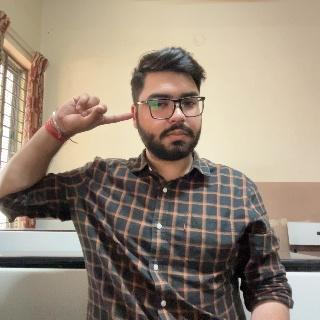Deaf: (49, 91, 133, 132)
Face: (133, 45, 202, 160)
